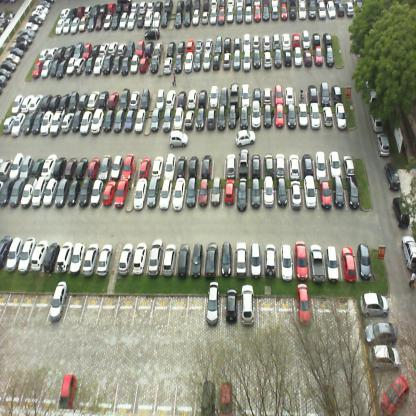car: (381, 375, 409, 415), (369, 345, 401, 371), (46, 290, 69, 326), (364, 321, 397, 346), (360, 292, 390, 318), (354, 240, 374, 277), (296, 281, 312, 327), (58, 374, 78, 410), (145, 240, 165, 275), (241, 282, 256, 328), (324, 242, 342, 280), (202, 293, 221, 329), (18, 238, 36, 274), (41, 239, 60, 273), (68, 240, 87, 274), (76, 176, 94, 210), (144, 177, 162, 211), (293, 243, 311, 277), (200, 381, 218, 415), (6, 236, 23, 272), (53, 241, 72, 273), (82, 240, 100, 273), (340, 241, 356, 278), (88, 174, 105, 208), (278, 244, 295, 278), (392, 195, 409, 229), (310, 242, 326, 278), (30, 240, 48, 272), (160, 241, 177, 274), (174, 243, 191, 276), (21, 176, 38, 209), (203, 241, 218, 278), (170, 176, 186, 210), (188, 242, 204, 276), (263, 243, 279, 277), (344, 176, 362, 206), (234, 241, 249, 277), (402, 234, 416, 272), (65, 176, 81, 209), (113, 177, 129, 210), (156, 178, 172, 211), (132, 240, 148, 273), (217, 242, 233, 275), (9, 177, 26, 208), (100, 178, 116, 210), (96, 244, 113, 274), (248, 240, 263, 274), (316, 177, 332, 208), (314, 148, 330, 178), (118, 242, 134, 272), (384, 162, 400, 192), (0, 177, 16, 207), (225, 286, 238, 322), (40, 153, 58, 179), (54, 179, 70, 208), (42, 178, 58, 207), (133, 177, 146, 212), (0, 235, 13, 270), (73, 154, 91, 179), (341, 149, 357, 177), (84, 153, 101, 179), (219, 381, 232, 415), (330, 179, 345, 208), (197, 179, 211, 210), (288, 180, 304, 207), (49, 109, 65, 136), (122, 106, 137, 134), (288, 147, 302, 177), (301, 148, 315, 178), (235, 179, 249, 209), (262, 178, 276, 208), (276, 179, 290, 209), (90, 106, 106, 132), (96, 154, 112, 180), (8, 153, 24, 179), (328, 148, 342, 177), (209, 180, 223, 209), (32, 178, 46, 207), (276, 148, 289, 179), (304, 178, 317, 209), (122, 155, 138, 180), (101, 107, 115, 135), (112, 107, 126, 135), (332, 101, 347, 127), (186, 152, 201, 178), (11, 111, 26, 137), (109, 155, 125, 179), (248, 150, 262, 177), (40, 109, 54, 136), (19, 154, 34, 179), (184, 179, 196, 210), (133, 108, 147, 134), (149, 154, 163, 180), (138, 155, 153, 179), (263, 147, 275, 177), (249, 179, 261, 209), (369, 111, 384, 135), (150, 106, 163, 133), (164, 152, 178, 177), (199, 152, 213, 177), (224, 179, 236, 208), (366, 79, 378, 108), (30, 156, 45, 179), (60, 110, 75, 133), (236, 130, 256, 147), (174, 153, 188, 177), (224, 150, 236, 178), (376, 133, 390, 157), (80, 111, 94, 135), (170, 131, 188, 149), (64, 157, 78, 180), (31, 111, 45, 134), (194, 107, 206, 133), (162, 107, 174, 132), (238, 105, 250, 130), (237, 152, 249, 177), (53, 156, 66, 179), (0, 158, 13, 181), (22, 112, 35, 135), (119, 87, 131, 111), (311, 102, 322, 128), (321, 104, 334, 126), (262, 105, 274, 128), (274, 105, 286, 128), (298, 105, 310, 128), (87, 90, 100, 111), (184, 106, 194, 133), (28, 94, 43, 112), (10, 94, 24, 113), (216, 107, 227, 131), (174, 108, 184, 134), (97, 88, 110, 108), (230, 82, 240, 108), (240, 82, 250, 108), (320, 80, 330, 106), (68, 89, 80, 110), (252, 105, 262, 130), (3, 115, 16, 134), (74, 57, 87, 76), (205, 108, 216, 130), (228, 106, 239, 128), (72, 110, 83, 132), (307, 82, 318, 104), (202, 51, 213, 73), (141, 86, 151, 110), (209, 84, 219, 108), (325, 44, 335, 68), (102, 54, 114, 74), (31, 59, 43, 79), (92, 54, 104, 74), (21, 94, 34, 112), (58, 92, 71, 110), (72, 40, 85, 58), (55, 60, 68, 78), (286, 105, 297, 126), (187, 88, 197, 111), (274, 82, 284, 105), (124, 38, 136, 57), (41, 60, 53, 79), (84, 56, 96, 75), (110, 12, 122, 31), (107, 91, 120, 108), (156, 88, 166, 110), (166, 88, 177, 108), (198, 87, 208, 109), (308, 0, 318, 22), (282, 30, 292, 52), (184, 52, 194, 74), (150, 54, 161, 74), (120, 56, 131, 76), (40, 94, 52, 112), (78, 92, 90, 110), (242, 51, 252, 72), (174, 53, 184, 74), (139, 56, 150, 75), (1, 60, 17, 73), (5, 53, 21, 66), (144, 28, 161, 40), (63, 43, 75, 60), (129, 54, 139, 74), (112, 54, 122, 74), (219, 86, 228, 108), (326, 0, 337, 18), (232, 49, 241, 71), (193, 50, 202, 72), (81, 42, 92, 60), (65, 57, 76, 75), (46, 45, 58, 61), (216, 5, 226, 24), (211, 53, 221, 72), (163, 56, 173, 75), (293, 46, 302, 67), (332, 85, 343, 102), (48, 94, 61, 108), (54, 46, 67, 60), (176, 90, 186, 108), (263, 85, 272, 105), (280, 2, 289, 22), (174, 10, 184, 28), (273, 49, 282, 69), (262, 51, 272, 69), (252, 50, 261, 70), (136, 38, 146, 56), (14, 40, 29, 52), (70, 16, 80, 34), (118, 11, 128, 29), (130, 90, 140, 107), (262, 33, 272, 50), (55, 18, 65, 35), (95, 13, 105, 30), (298, 0, 306, 21), (226, 4, 234, 25), (302, 28, 310, 49), (98, 41, 110, 55), (32, 9, 46, 21), (35, 3, 49, 15), (49, 60, 60, 75), (303, 49, 312, 67), (283, 50, 292, 68), (272, 32, 281, 50), (242, 33, 251, 51), (223, 35, 232, 53), (103, 13, 112, 31), (127, 12, 136, 30), (335, 2, 345, 18), (314, 46, 322, 66), (144, 41, 154, 57), (86, 15, 96, 31), (144, 10, 154, 26), (28, 16, 42, 27), (286, 86, 294, 105), (318, 0, 326, 19), (254, 4, 262, 23), (245, 5, 253, 24), (236, 5, 244, 24), (209, 5, 217, 24), (214, 34, 222, 53), (322, 30, 332, 45), (166, 41, 176, 56), (108, 41, 118, 56), (17, 34, 32, 44), (253, 84, 261, 102), (345, 1, 354, 17), (289, 2, 297, 20), (192, 8, 200, 26), (184, 9, 192, 27), (223, 52, 231, 70), (63, 18, 72, 34), (80, 14, 88, 32), (354, 0, 363, 16), (153, 42, 163, 56), (25, 22, 39, 32), (90, 4, 100, 18), (130, 0, 140, 14), (138, 0, 148, 14), (164, 0, 174, 14), (263, 5, 271, 22), (204, 36, 213, 51), (21, 29, 36, 38), (0, 68, 12, 79), (98, 4, 109, 16), (91, 44, 101, 57), (10, 48, 23, 58), (272, 6, 280, 22), (292, 32, 300, 48), (160, 11, 168, 27), (39, 49, 50, 60), (60, 7, 71, 18), (202, 10, 210, 25), (312, 32, 320, 47), (252, 35, 260, 50), (177, 41, 185, 56), (118, 43, 127, 56), (176, 0, 185, 13), (233, 36, 241, 50), (186, 39, 194, 53), (70, 6, 78, 20), (137, 14, 145, 28), (152, 12, 160, 26), (195, 39, 203, 52), (0, 74, 8, 87), (107, 2, 116, 13), (115, 2, 124, 13), (123, 1, 132, 12), (147, 1, 156, 12), (154, 1, 163, 12), (39, 0, 51, 8), (77, 6, 85, 18), (184, 0, 192, 12), (84, 6, 92, 16), (202, 0, 209, 11), (194, 0, 201, 8)
